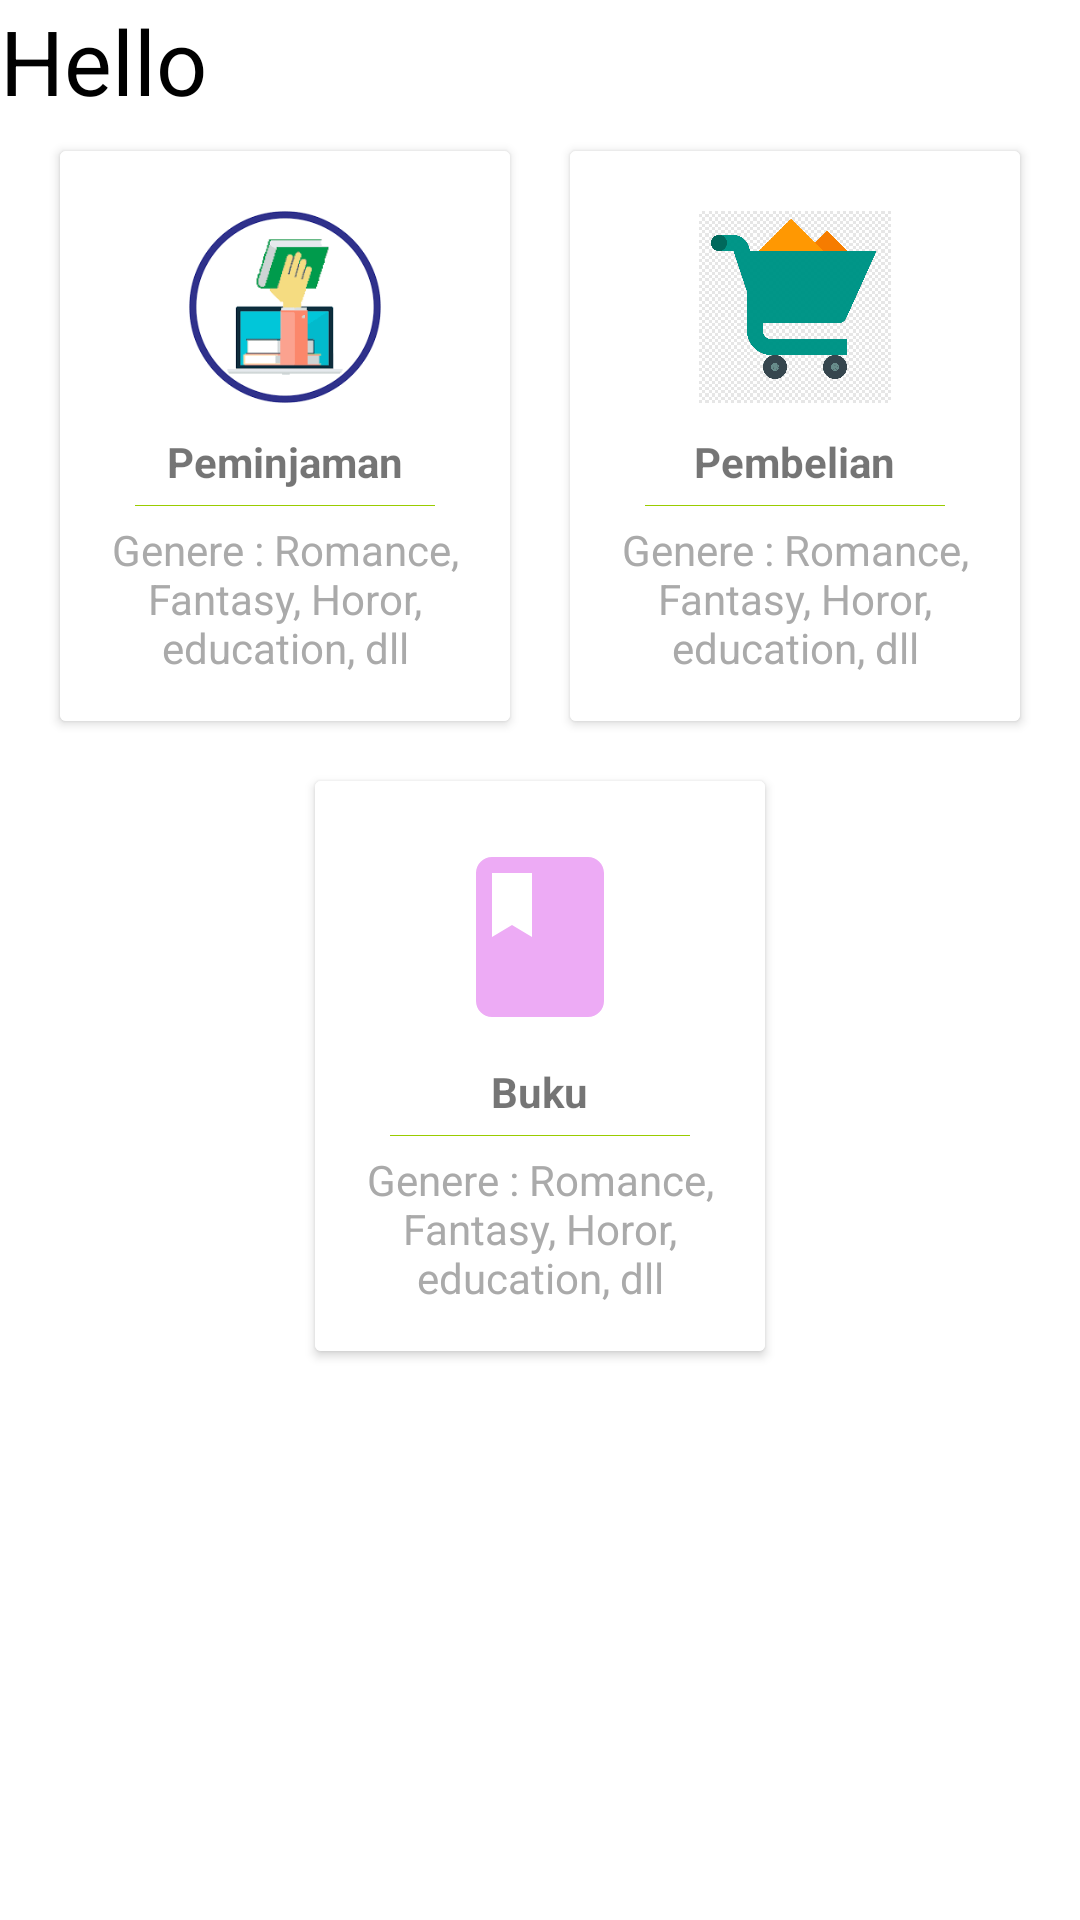

Screen size 1080*1920. Icon name, then its center in pixels as (x=x, y=y):
book: (x=540, y=937)
